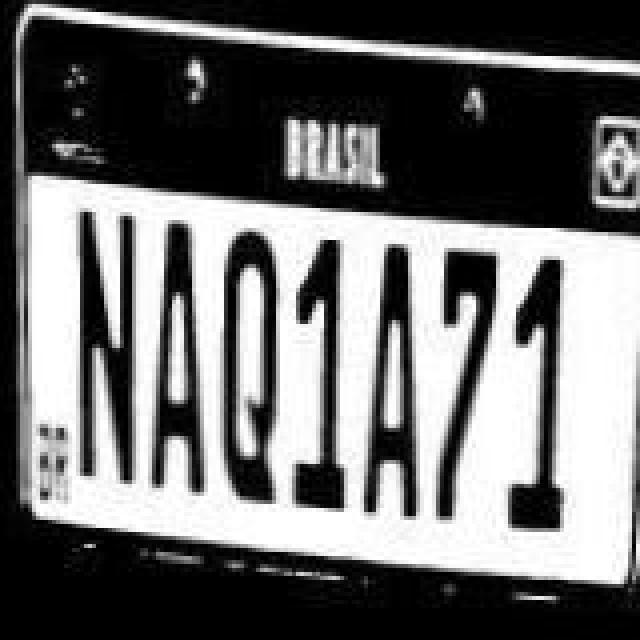1: (502, 250, 574, 550), (282, 234, 350, 510)
7: (430, 240, 502, 532)
A: (134, 214, 210, 502), (358, 240, 430, 532)
N: (58, 198, 134, 490)
Q: (214, 226, 282, 506)
